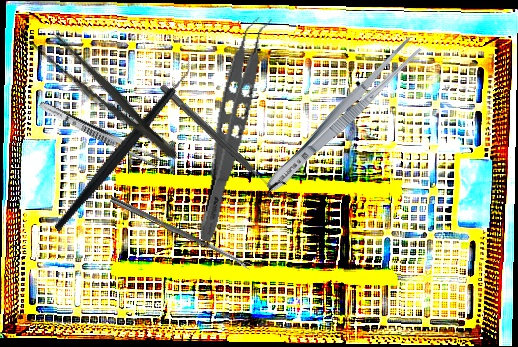Chopper: (12, 52, 235, 233)
Dressing Forceps: (259, 33, 425, 199), (25, 23, 187, 169), (36, 98, 163, 169)
Fixation Ring: (153, 76, 288, 202)
Surgical Spoon: (109, 196, 253, 271)
Tissue Forceps: (193, 12, 277, 247)
